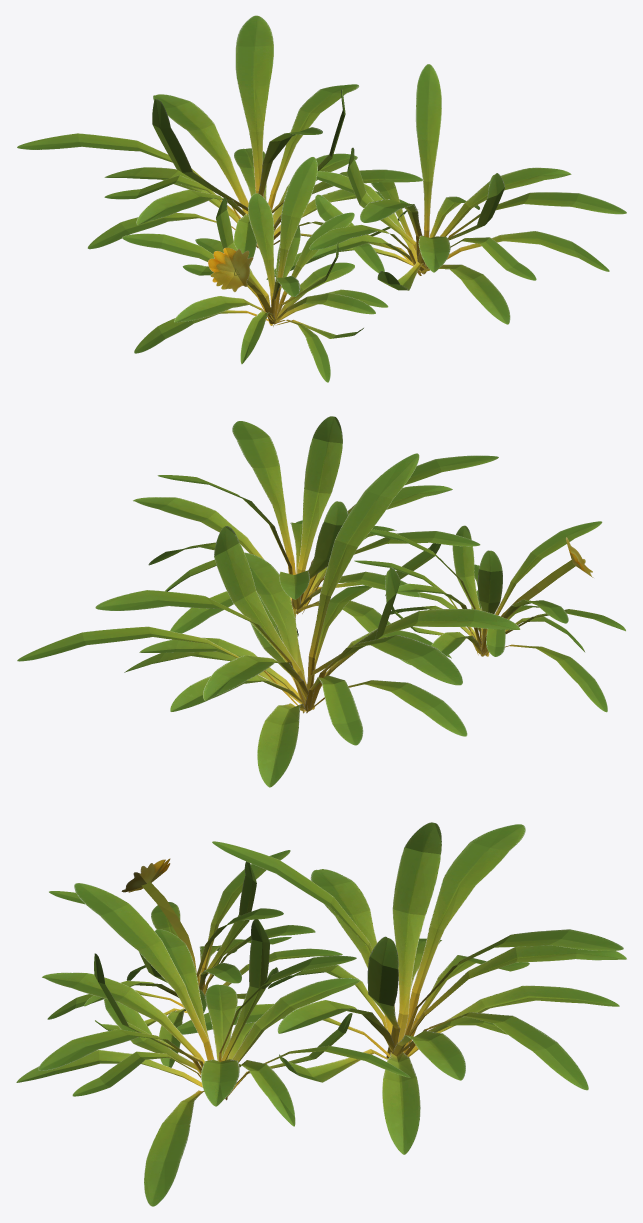
Rendered from P_Flowerjinzhanju_01.obj.
The picture shows the model from 3 angles, top to bottom: view 1: azimuth 30°, elevation 25°; view 2: azimuth 150°, elevation 25°; view 3: azimuth 270°, elevation 25°; orthographic projection. The views are drawn at different scales.
Bounding box in the file's own units: 0.732 × 0.2906 × 0.7494.
Materials: 1 (1 with a texture image).
